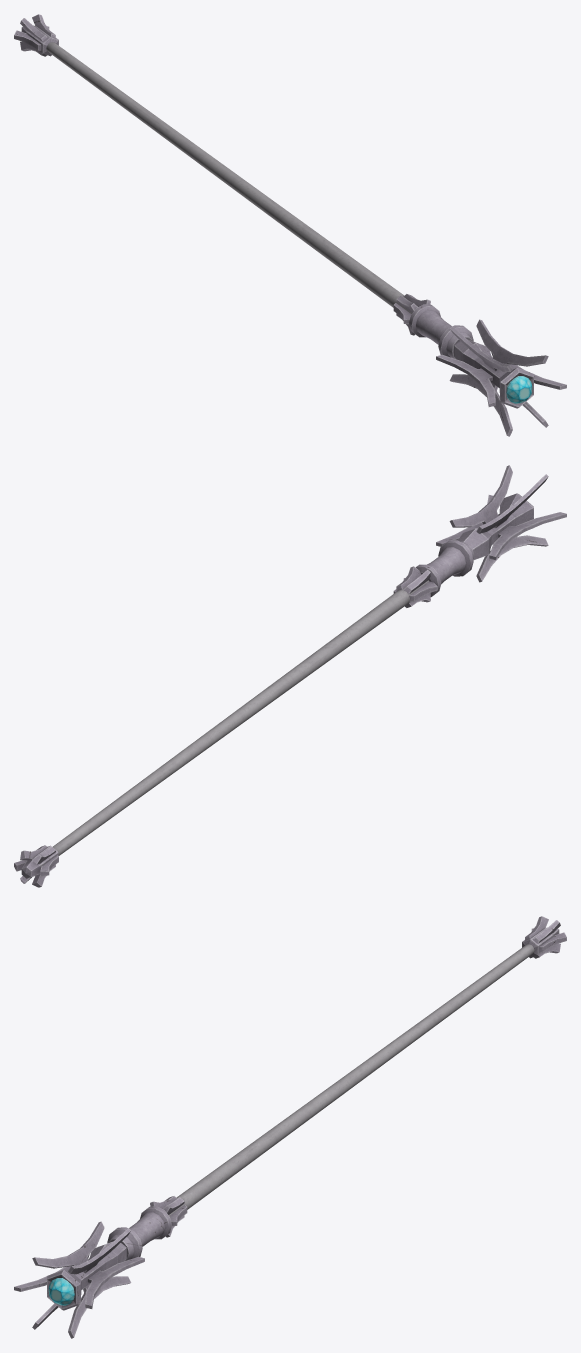
The model's file is Wizard_Lv2_Staff.fbx.
3 renders of one model, top to bottom at view 1: azimuth 30°, elevation 25°; view 2: azimuth 150°, elevation 25°; view 3: azimuth 330°, elevation 25°, orthographic.
Visible parts, largest first — view 1: Staff_002; view 2: Staff_002; view 3: Staff_002.
Part boxes in pixels (x1=…): Staff_002: x1=14, y1=14, x2=566, y2=436; Staff_002: x1=14, y1=465, x2=566, y2=887; Staff_002: x1=14, y1=916, x2=566, y2=1338.
Bounding box in the file's own units: 10.71 × 9.5 × 119.
